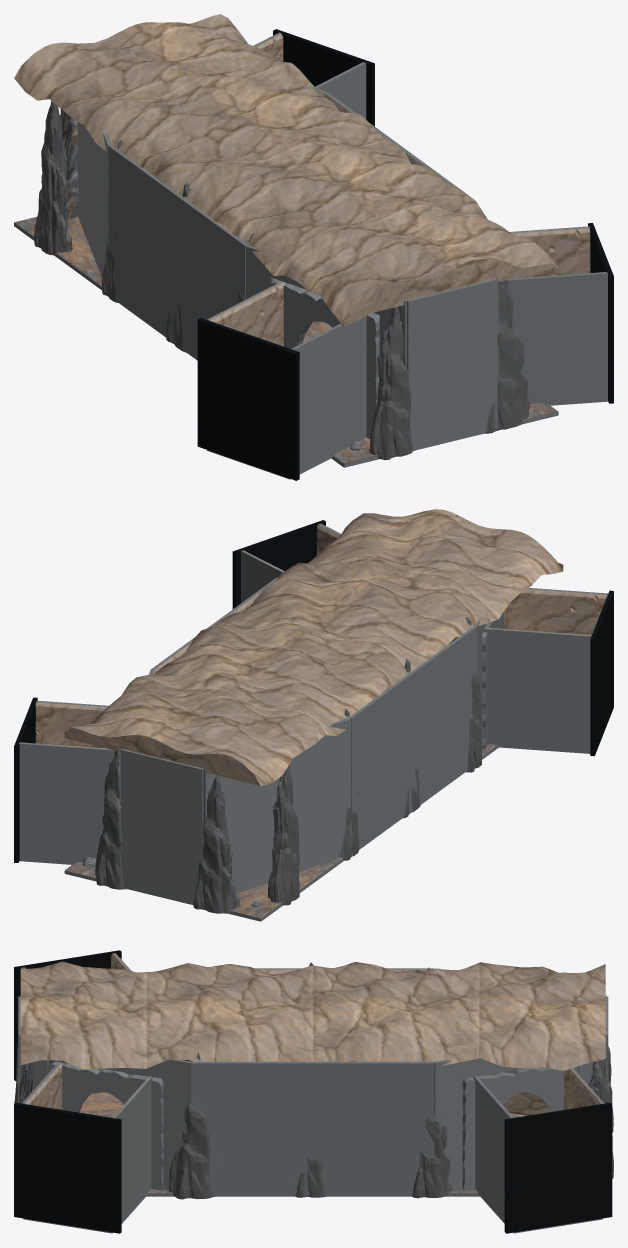
File: room.glb
The picture shows the model from 3 angles, top to bottom: view 1: azimuth 30°, elevation 25°; view 2: azimuth 150°, elevation 25°; view 3: azimuth 270°, elevation 25°; orthographic projection. The views are drawn at different scales.
Visible parts, largest first — view 1: DARK-TUNNEL; view 2: DARK-TUNNEL; view 3: DARK-TUNNEL.
Boxes of the visible parts, x1,y1,x2,y2 form: DARK-TUNNEL: [14, 14, 613, 480]; DARK-TUNNEL: [14, 509, 613, 921]; DARK-TUNNEL: [14, 950, 613, 1233].
Size of the model in its own units: 11.06 by 4.79 by 16.41.
Materials: 1 (1 with a texture image).
